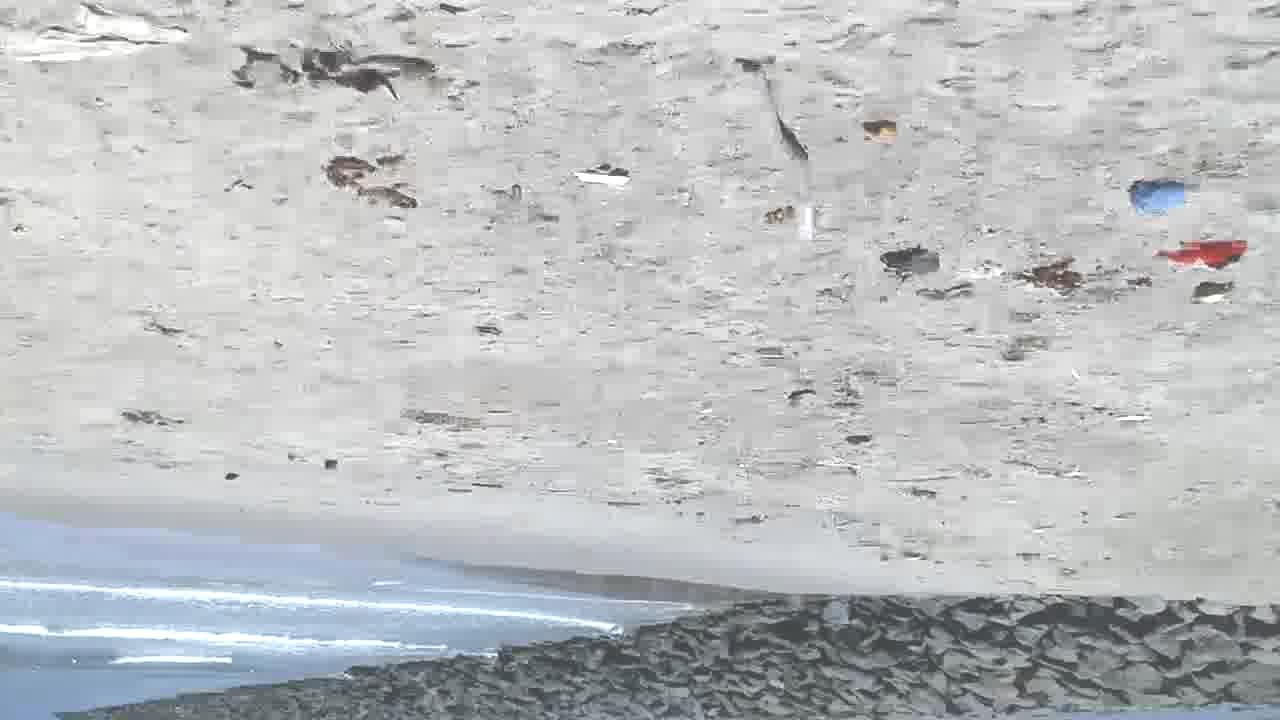obj: (732, 57, 838, 246), (230, 41, 450, 115), (8, 11, 202, 66), (326, 148, 427, 229), (1150, 236, 1254, 278), (998, 252, 1085, 302), (880, 242, 954, 290), (1128, 178, 1188, 221), (568, 163, 636, 191), (860, 114, 899, 151), (1185, 281, 1235, 304)
sand/background: (0, 490, 1279, 719)
